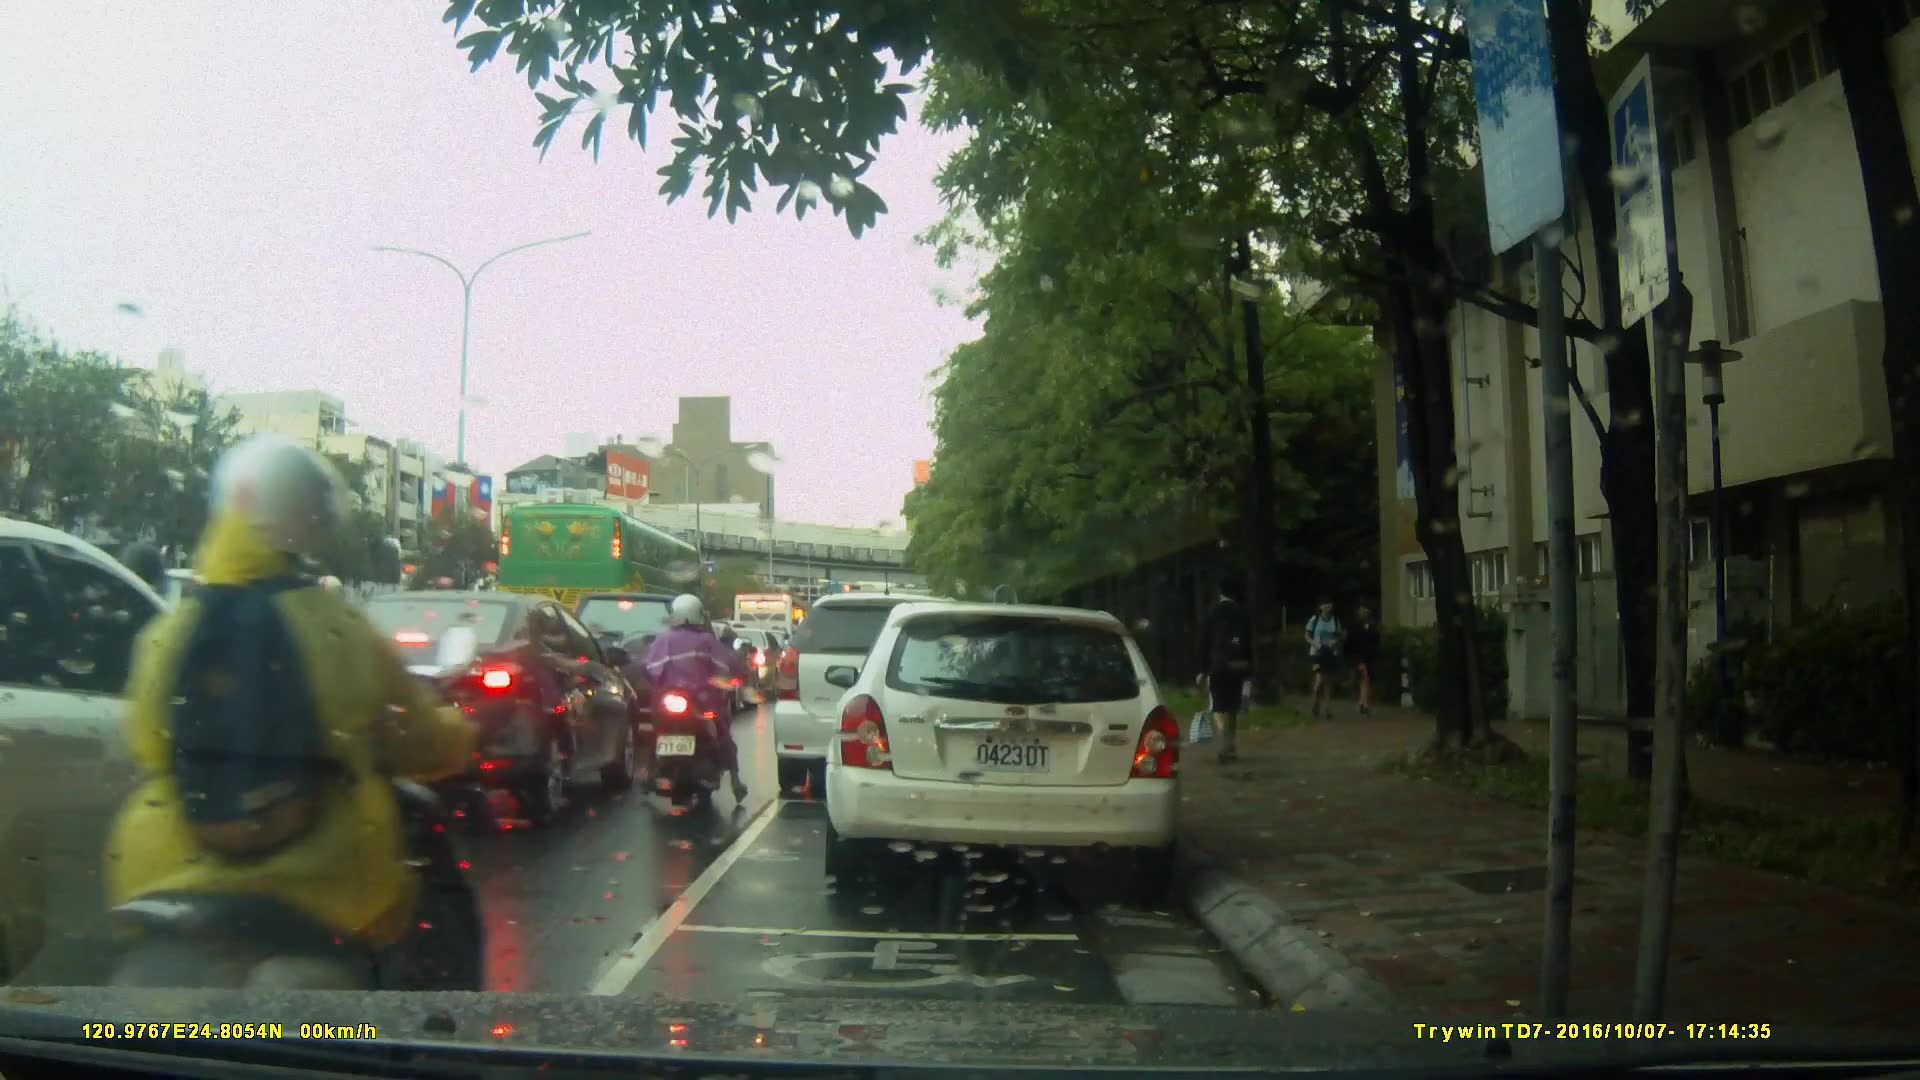pedestrian: (1191, 571, 1262, 766), (1303, 591, 1359, 723), (1341, 595, 1380, 716)
rider: (105, 432, 488, 1072), (649, 589, 746, 812)
vehicle: (1, 520, 354, 986), (831, 592, 1196, 897), (269, 587, 641, 824), (29, 565, 345, 760), (770, 592, 999, 799), (548, 576, 751, 751), (495, 502, 707, 644)
